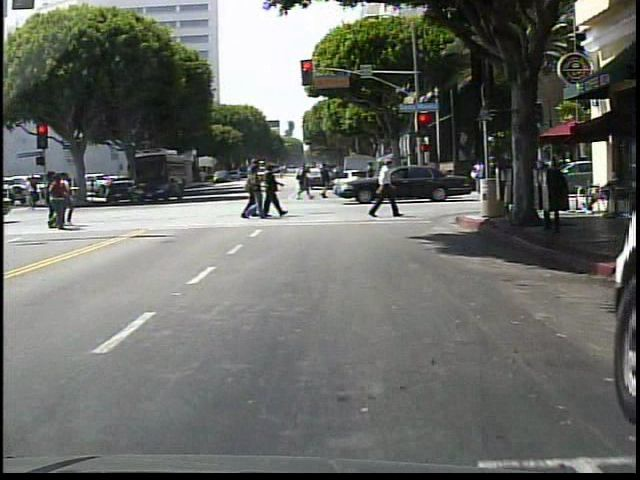person: (364, 156, 407, 224)
